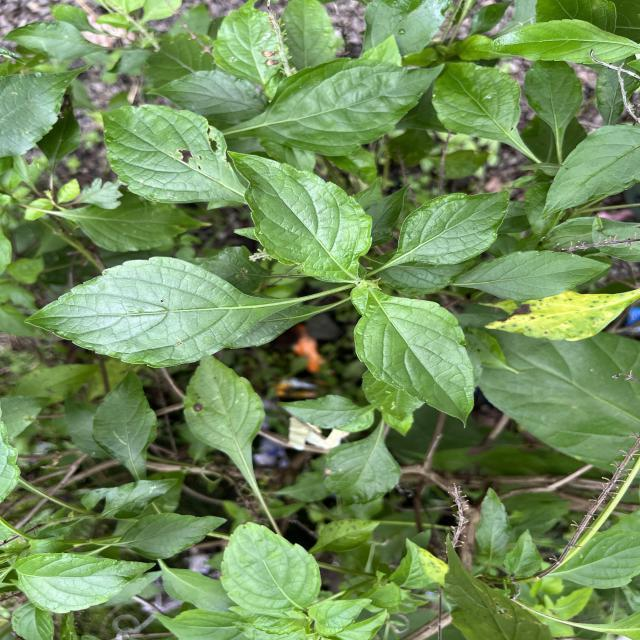Ocimum gratissimum: (21, 254, 316, 370), (230, 54, 447, 160), (222, 147, 376, 286), (350, 285, 480, 431), (94, 101, 244, 203), (177, 354, 269, 508), (372, 190, 512, 274), (535, 121, 640, 224), (11, 550, 162, 617), (217, 520, 324, 614), (446, 248, 614, 304), (428, 59, 526, 154), (89, 368, 162, 478)
